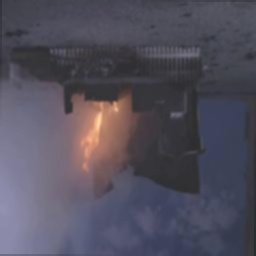fire: (68, 90, 123, 180)
smoke: (0, 159, 102, 256)
